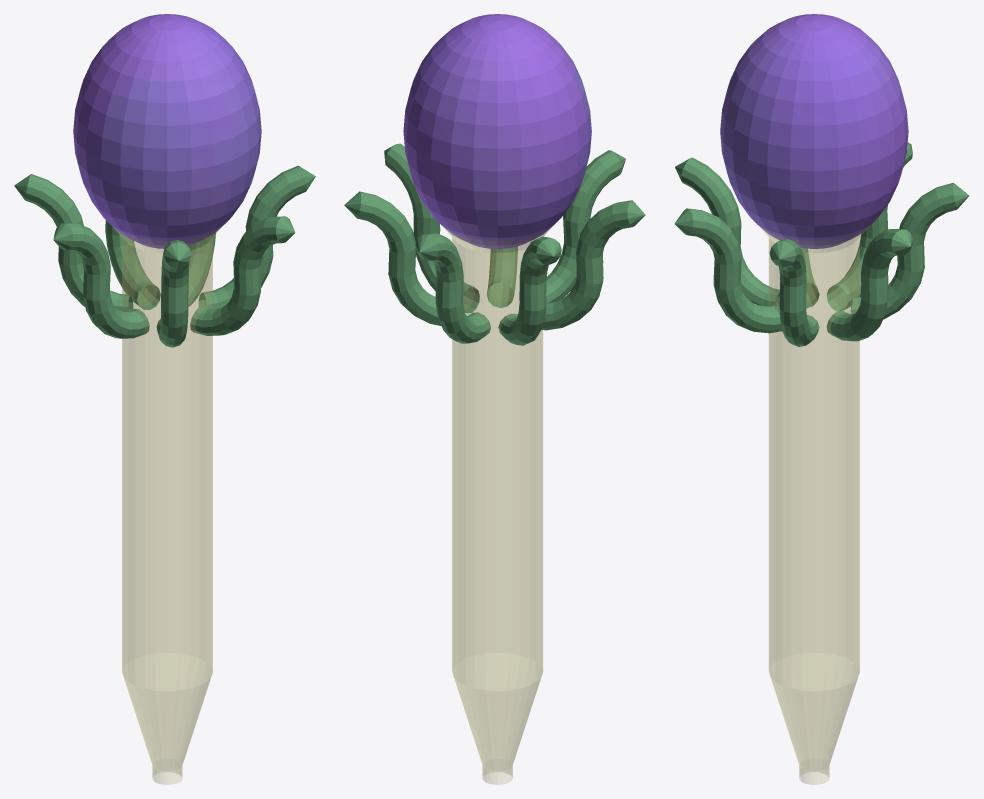
File: Dropper .glb
3 renders of one model, left to right at view 1: azimuth 30°, elevation 25°; view 2: azimuth 150°, elevation 25°; view 3: azimuth 270°, elevation 25°, orthographic.
Parts seen in each view (by area): view 1: Cirkel, Bol, Torus; view 2: Cirkel, Bol, Torus; view 3: Cirkel, Bol, Torus.
Boxes of the visible parts, left/top/right/bottom form: Cirkel: left=113, top=227, right=221, bottom=784; Bol: left=73, top=14, right=261, bottom=248; Torus: left=14, top=165, right=315, bottom=347; Cirkel: left=443, top=226, right=552, bottom=784; Bol: left=403, top=14, right=591, bottom=248; Torus: left=344, top=143, right=645, bottom=345; Cirkel: left=760, top=227, right=868, bottom=784; Bol: left=720, top=14, right=908, bottom=248; Torus: left=674, top=142, right=969, bottom=346.
Bounding box in the file's own units: 5.01 × 13.85 × 4.89.
3 materials, 1 textured.
